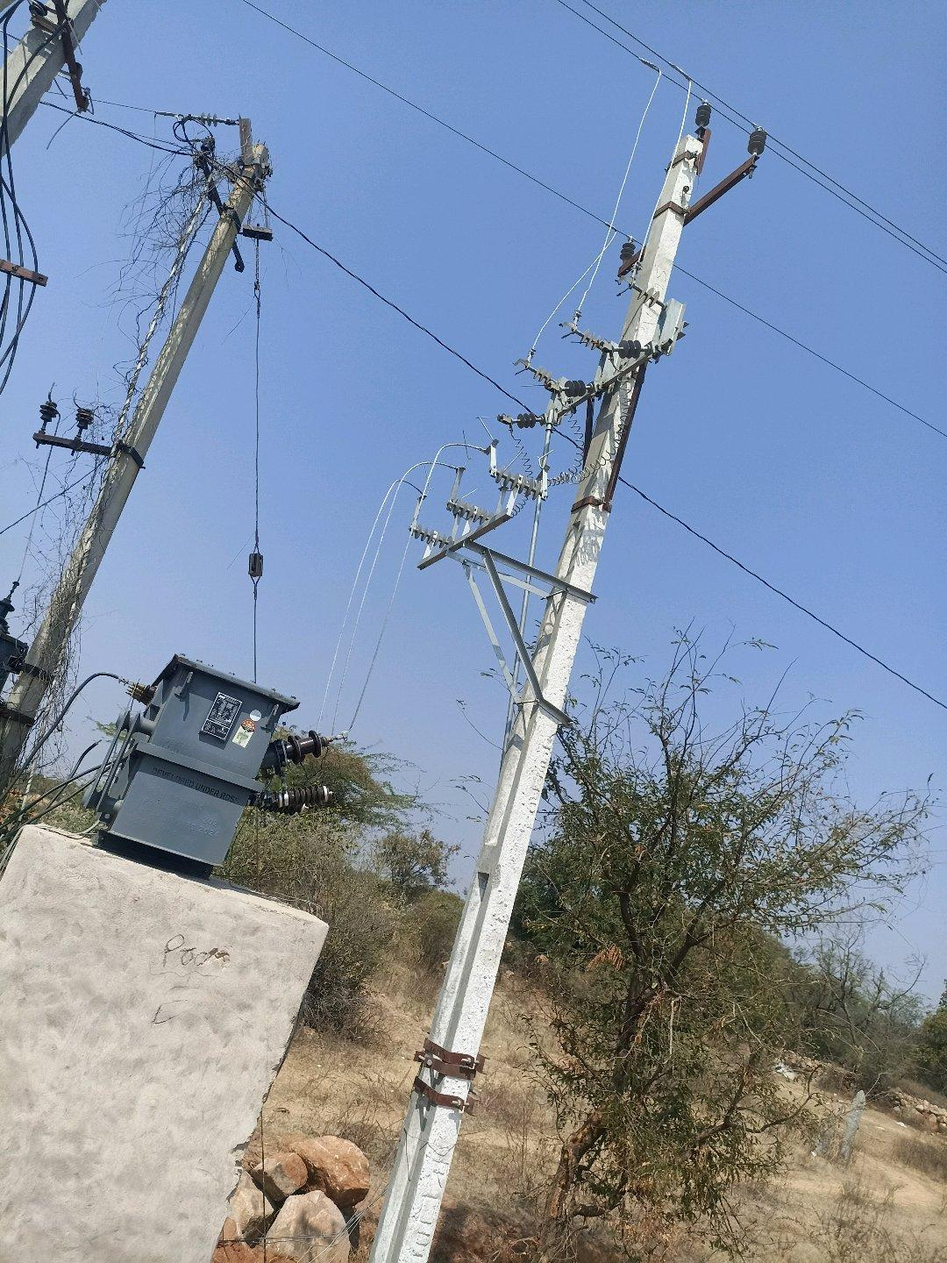{"0" "insulator", "1" "pole", "2" "crossarm", "3" "conductor", "4" "street_: (370, 104, 765, 1262), (0, 118, 269, 757), (476, 596, 484, 611), (436, 544, 443, 551), (522, 636, 525, 645), (217, 177, 221, 182), (505, 584, 507, 590)
